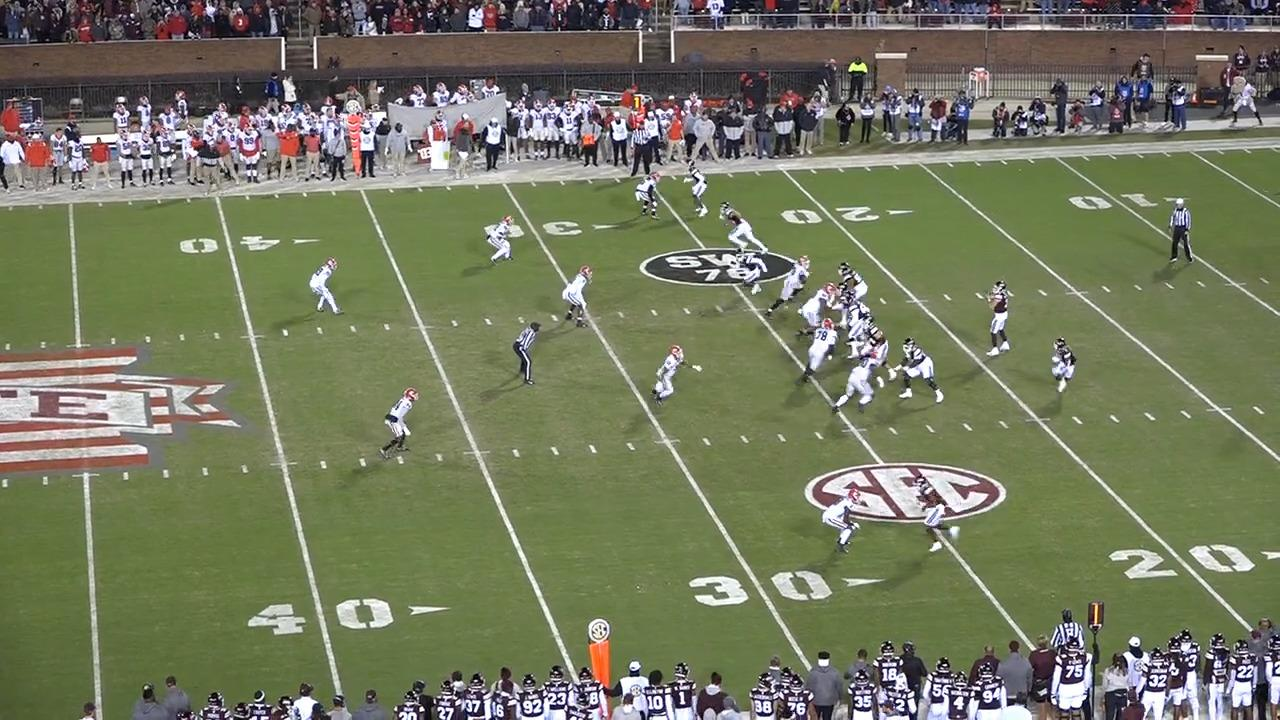player: (907, 470, 952, 556), (797, 319, 844, 390), (829, 350, 878, 417), (895, 336, 943, 403), (373, 388, 415, 464), (769, 251, 817, 314), (655, 344, 703, 407), (821, 487, 861, 558), (719, 203, 765, 261), (795, 284, 837, 344), (979, 279, 1009, 361), (865, 321, 898, 386), (308, 256, 343, 317), (566, 267, 597, 333), (841, 297, 873, 360), (1050, 335, 1080, 398), (487, 216, 519, 267), (685, 160, 711, 219), (737, 249, 769, 296), (633, 174, 660, 223), (837, 263, 868, 303), (839, 291, 875, 325)
ref: (507, 321, 538, 390), (1165, 197, 1196, 265), (1047, 606, 1082, 658), (627, 124, 651, 180)
